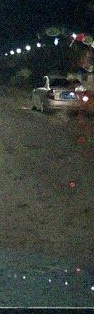L_light: (47, 89, 54, 100)
R_light: (83, 90, 89, 101)
T_light: (62, 78, 69, 80)
night-right: (45, 74, 90, 114)
